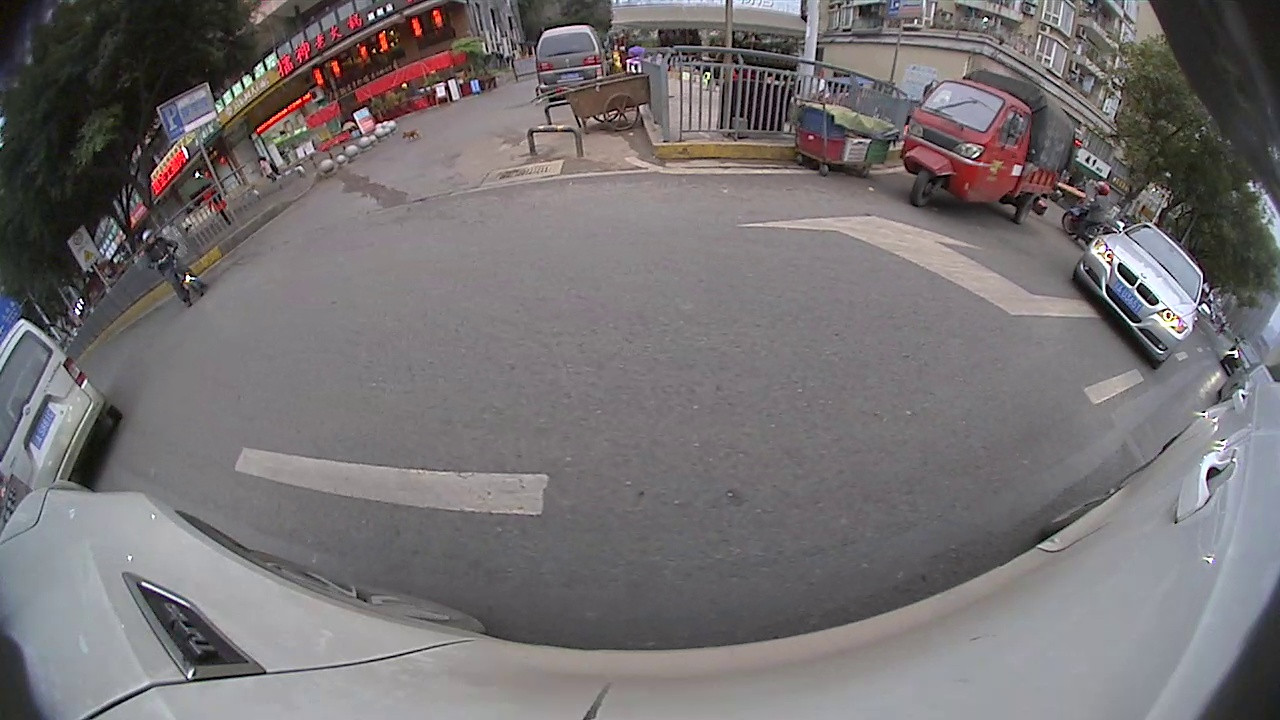car: (1069, 213, 1216, 369), (0, 321, 125, 500), (527, 20, 616, 99), (1221, 365, 1277, 412)
front: (910, 169, 939, 207)
rear: (1013, 189, 1041, 227)
rider: (888, 64, 1084, 222), (133, 222, 211, 310), (1060, 176, 1128, 258)
